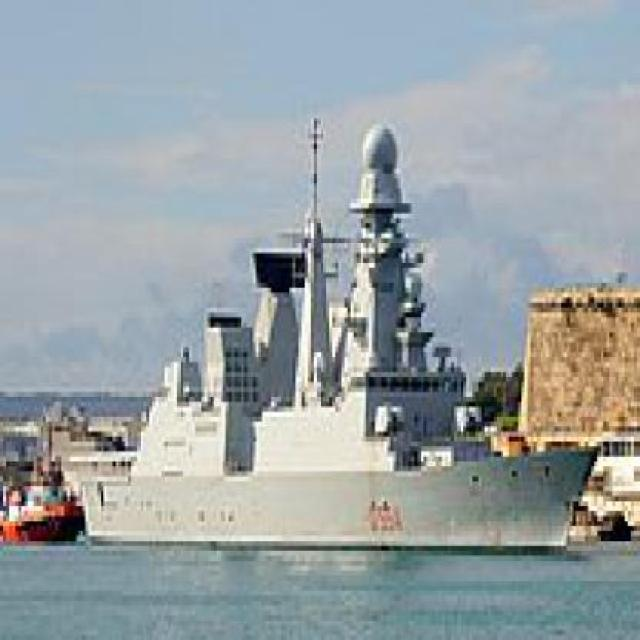warship2: (68, 91, 599, 557)
